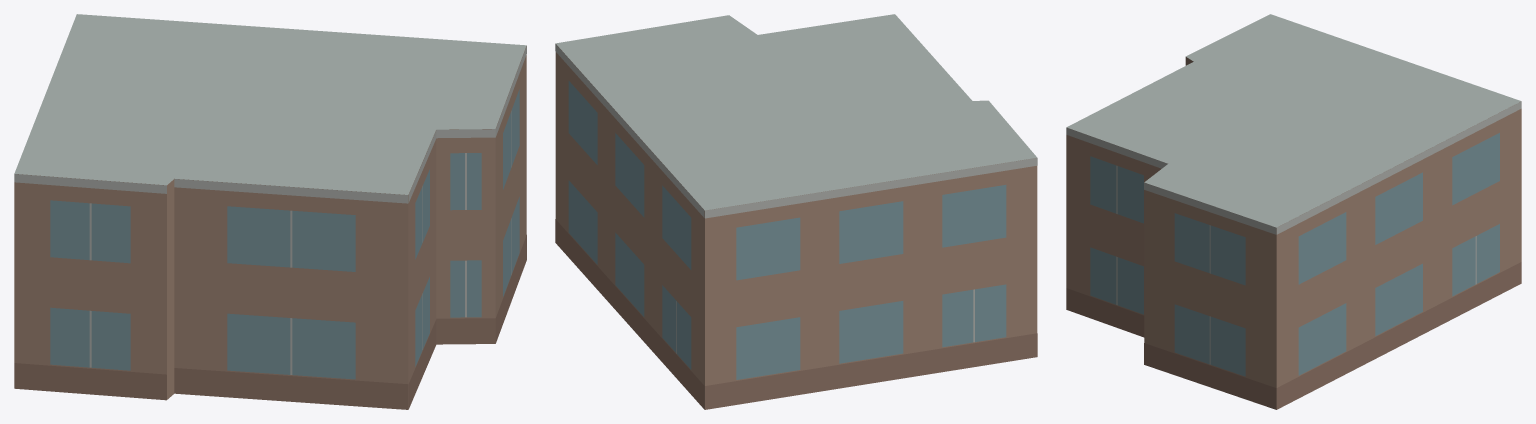
The model's file is survey-upis-32985311.glb.
3 renders of one model, left to right at view 1: azimuth 30°, elevation 25°; view 2: azimuth 150°, elevation 25°; view 3: azimuth 270°, elevation 25°, orthographic. The views are drawn at different scales.
Parts seen in each view (by area): view 1: survey-upis-32985311.tmp; view 2: survey-upis-32985311.tmp; view 3: survey-upis-32985311.tmp.
Part boxes in pixels (<box>): survey-upis-32985311.tmp: <box>14,14,526,409</box>; survey-upis-32985311.tmp: <box>555,14,1037,409</box>; survey-upis-32985311.tmp: <box>1066,14,1521,409</box>.
Bounding box in the file's own units: 15.34 × 6.1 × 13.82.
